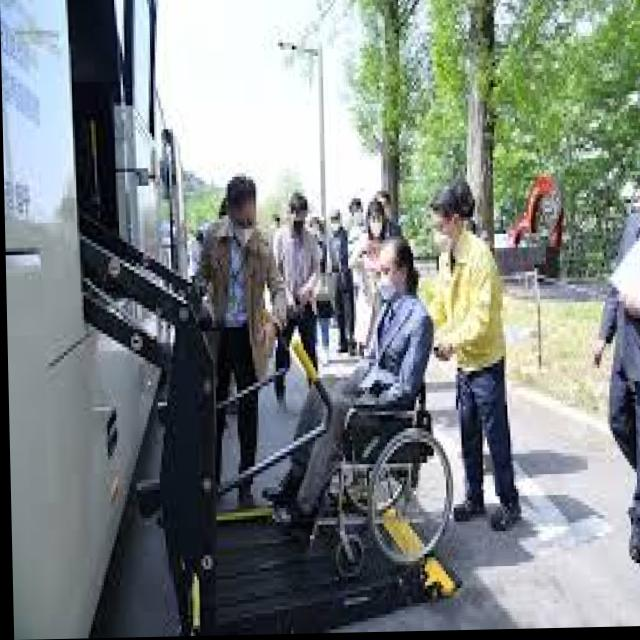wheelchair: (262, 237, 452, 572)
